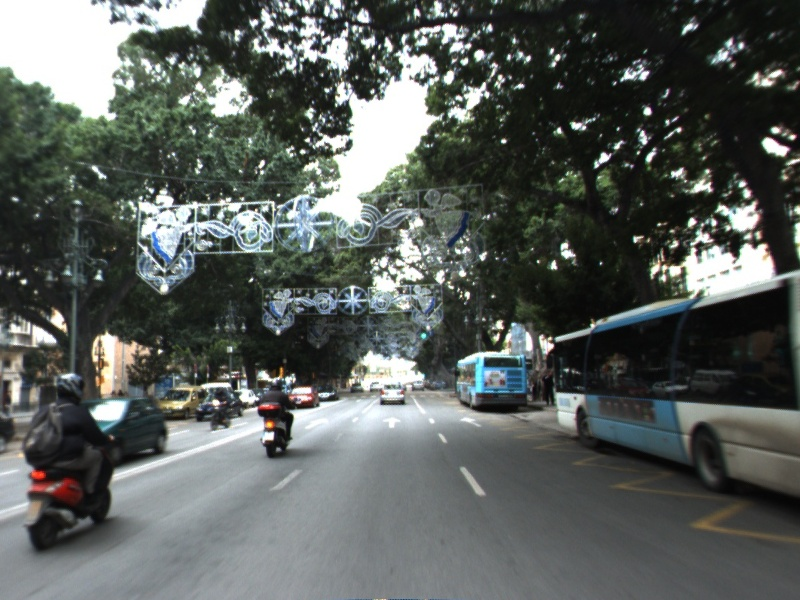STRAIGHT: (302, 416, 331, 431), (457, 414, 485, 429), (380, 415, 403, 430)
